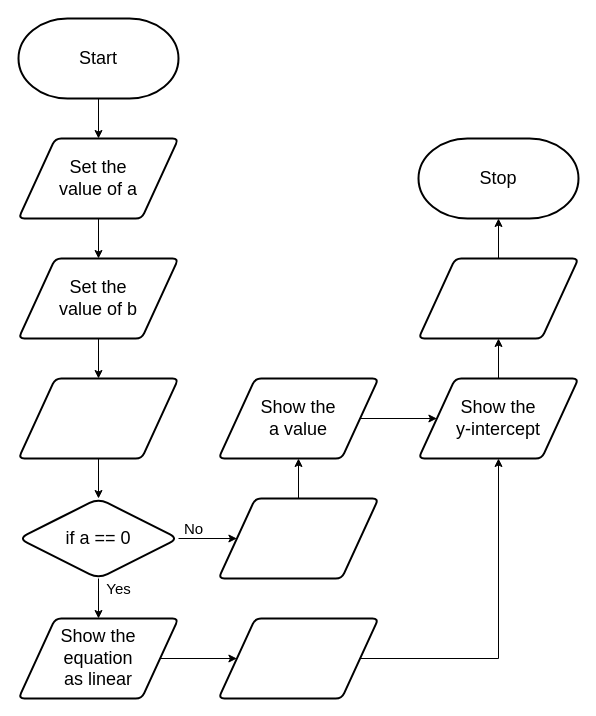
The diagram is 596 pixels wide and 716 high, and some of its shapes have lost their labels. Here are the shapes that lost their labels. From the top down, the centre of each, then its label:
the point at 498,298: Show the program as done
the point at 98,418: Set the value of c
the point at 298,538: Show the equation as quadratic
the point at 298,658: Show the slope
